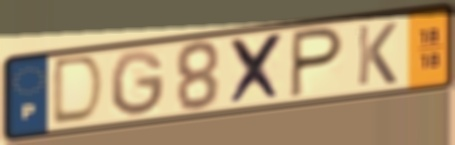8: (173, 38, 223, 116)
D: (48, 53, 108, 129)
G: (108, 48, 168, 119)
K: (355, 20, 400, 89)
P: (287, 24, 347, 101)
X: (228, 30, 287, 108)
